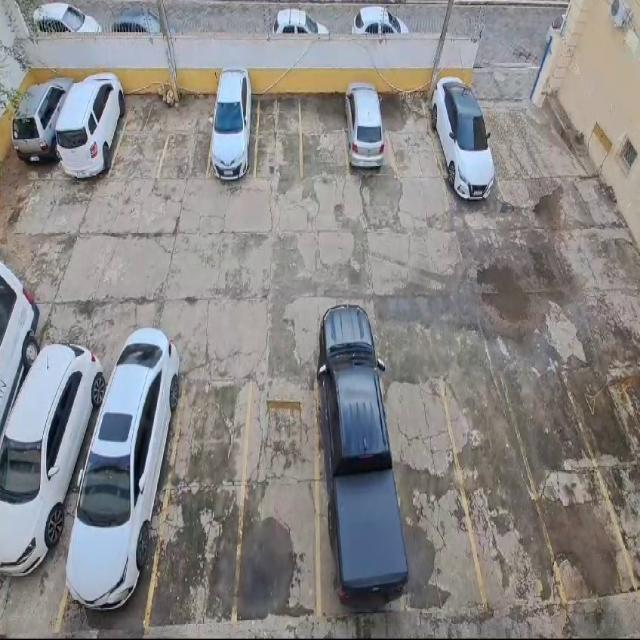empty: (502, 371, 638, 601), (444, 371, 562, 603), (147, 386, 251, 621), (381, 380, 487, 607), (235, 380, 319, 619), (109, 96, 177, 181), (380, 91, 443, 181), (159, 99, 216, 175), (300, 92, 349, 178), (255, 94, 300, 179)
notEmpty: (0, 316, 118, 639), (57, 360, 186, 639), (317, 366, 406, 616), (48, 78, 134, 181), (423, 86, 497, 194), (2, 66, 75, 174), (208, 86, 260, 181), (340, 91, 395, 173)
